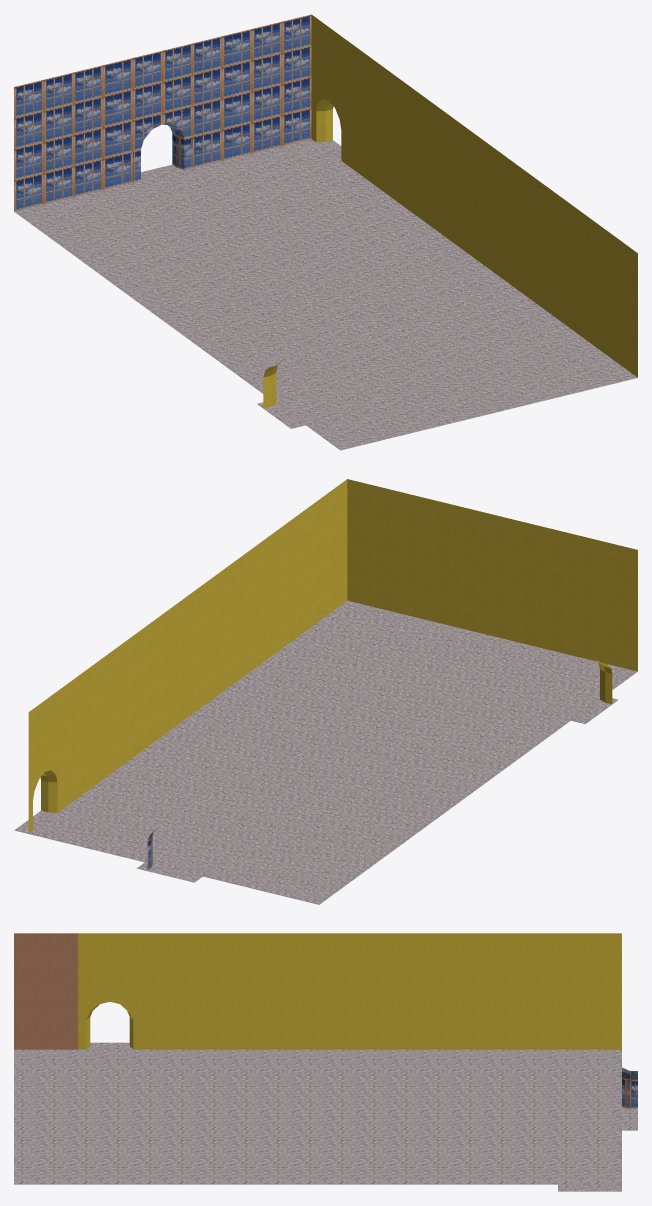
File: Room13.glb
The picture shows the model from 3 angles, top to bottom: view 1: azimuth 30°, elevation 25°; view 2: azimuth 150°, elevation 25°; view 3: azimuth 270°, elevation 25°; orthographic projection. The views are drawn at different scales.
Visible parts, largest first — view 1: Floor.001, Wall4.001, Wall5.001; view 2: Floor.001, Wall4.001, Wall2.001; view 3: Floor.001, Wall3.001, Wall1.001, Wall5.001.
Part boxes in pixels (x1,y1,x2,y2): Floor.001: (14,139,637,450); Wall4.001: (311,15,637,377); Wall5.001: (14,14,311,211); Floor.001: (14,600,637,904); Wall4.001: (28,479,347,833); Wall2.001: (347,479,637,671); Floor.001: (14,1042,637,1191); Wall3.001: (78,933,621,1049); Wall1.001: (14,933,77,1049); Wall5.001: (622,1067,637,1108).
Bounding box in the file's own units: 11 × 4 × 19.5.
5 materials, 5 textured.
